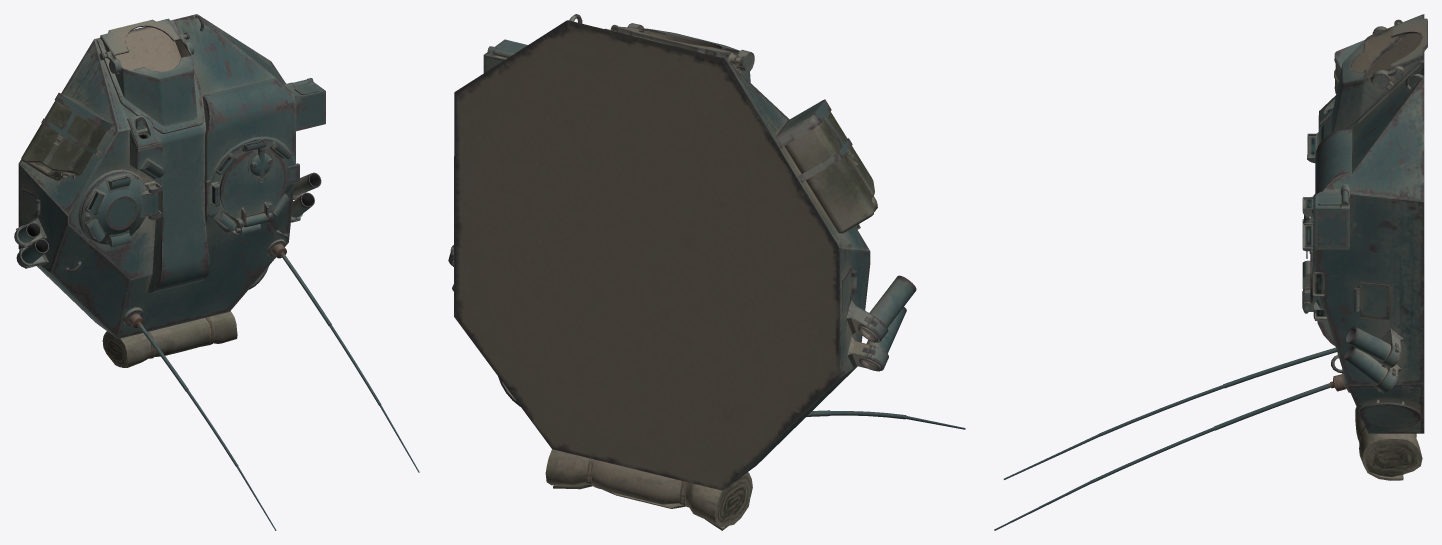
File: Turret_01.glb
The picture shows the model from 3 angles, left to right: view 1: azimuth 30°, elevation 25°; view 2: azimuth 150°, elevation 25°; view 3: azimuth 270°, elevation 25°; orthographic projection. The views are drawn at different scales.
Parts seen in each view (by area): view 1: set_0_group_0; view 2: set_0_group_0; view 3: set_0_group_0.
Part boxes in pixels (<box>): set_0_group_0: <box>14,14,419,530</box>; set_0_group_0: <box>448,14,965,530</box>; set_0_group_0: <box>994,14,1427,530</box>.
Size of the model in its own units: 2.11 by 2.56 by 2.17.
1 material, 1 textured.
